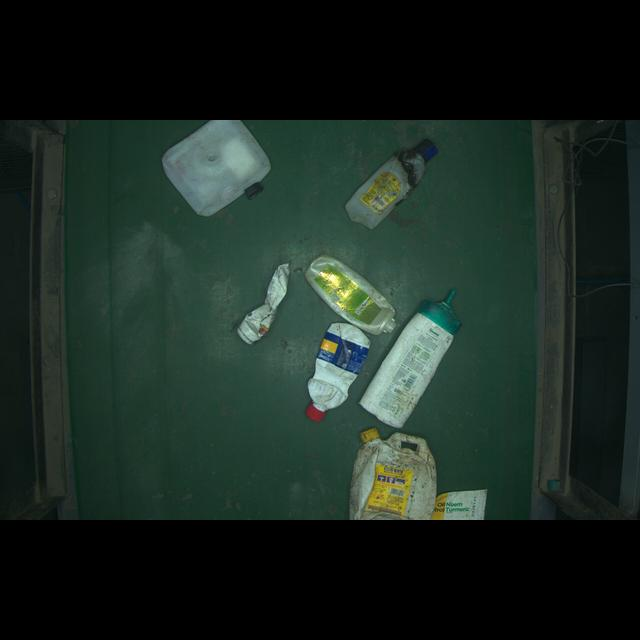mix PET: (366, 275, 466, 429), (336, 423, 468, 529), (342, 127, 449, 235), (308, 245, 403, 330), (292, 314, 366, 423), (228, 248, 292, 357), (435, 493, 501, 522)
